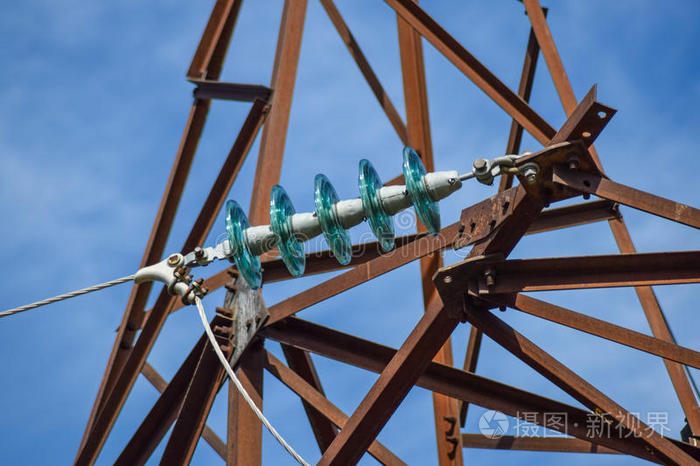insulator: (224, 146, 442, 288)
